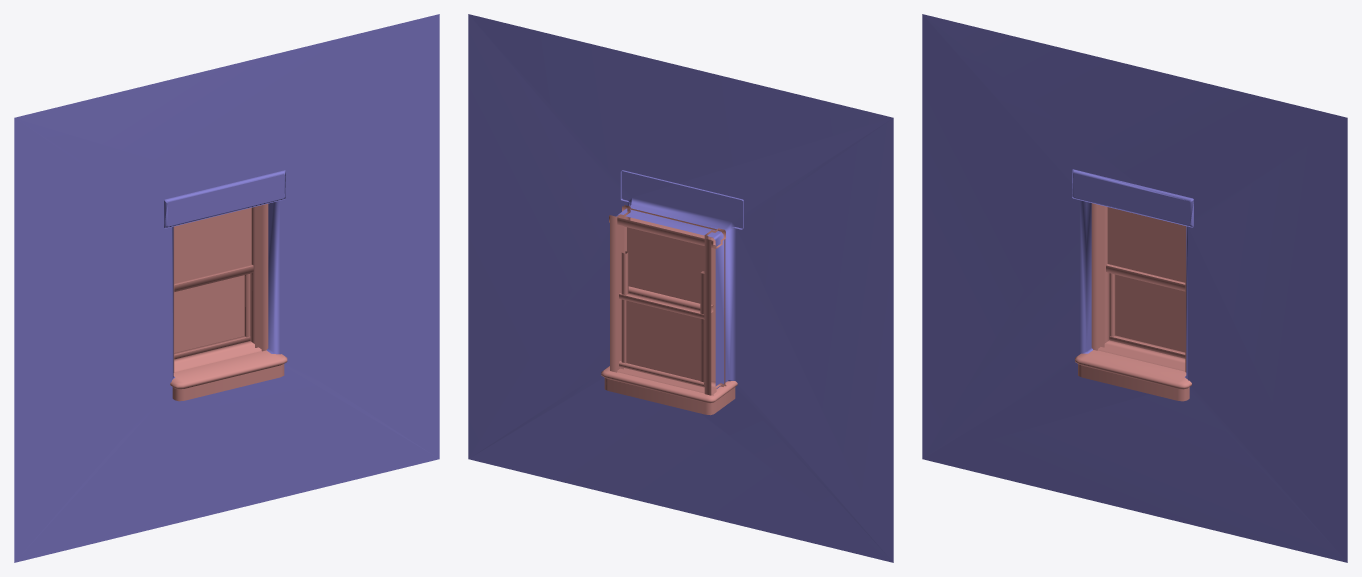
The model's file is window_04.fbx.
The picture shows the model from 3 angles, left to right: view 1: azimuth 30°, elevation 25°; view 2: azimuth 150°, elevation 25°; view 3: azimuth 330°, elevation 25°; orthographic projection.
Visible parts, largest first — view 1: Plane.021, Plane.022; view 2: Plane.021, Plane.022; view 3: Plane.021, Plane.022.
Part boxes in pixels (x1,y1,x2,y2): Plane.021: [14, 14, 439, 562]; Plane.022: [170, 203, 287, 401]; Plane.021: [468, 14, 893, 562]; Plane.022: [601, 205, 737, 415]; Plane.021: [922, 14, 1347, 562]; Plane.022: [1075, 203, 1191, 401].
Size of the model in its own units: 4 by 4 by 0.5096.
